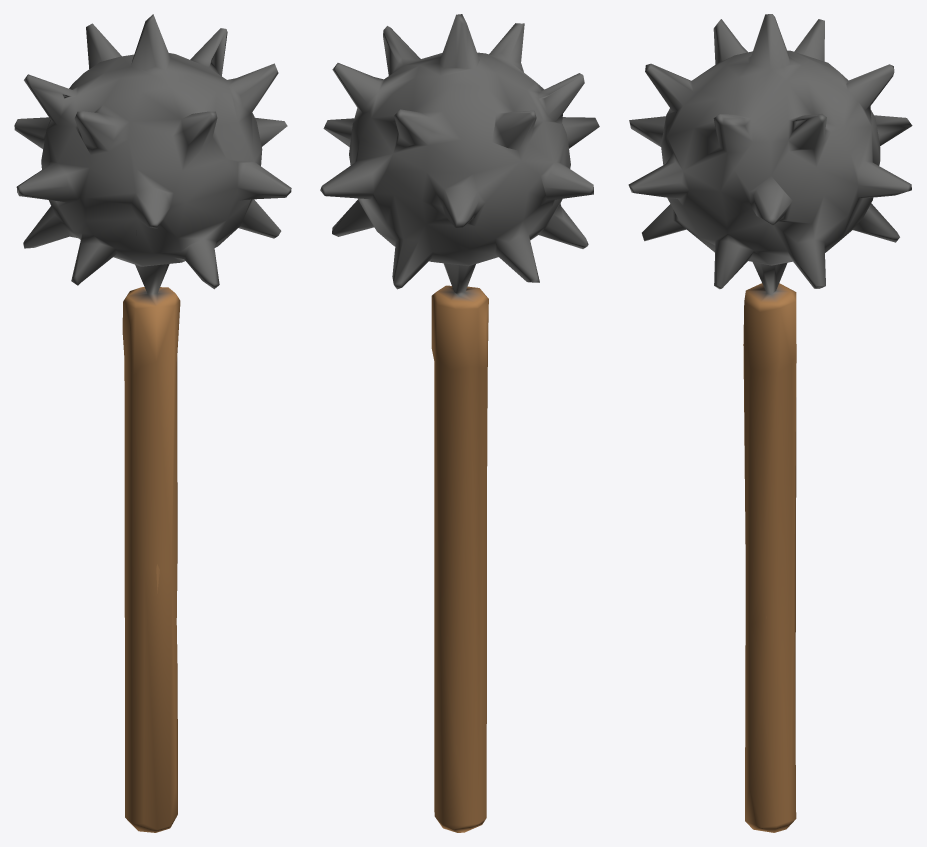
The model's file is gen3d-morning-star-lod1.glb.
3 views of the same model, side by side, from view 1: azimuth 30°, elevation 25°; view 2: azimuth 150°, elevation 25°; view 3: azimuth 270°, elevation 25° (orthographic).
Parts seen in each view (by area): view 1: part_0; view 2: part_0; view 3: part_0.
Boxes of the visible parts, x1,y1,x2,y2 form: part_0: (14, 14, 291, 832); part_0: (320, 14, 599, 832); part_0: (628, 14, 912, 832).
Size of the model in its own units: 0.3466 by 0.9993 by 0.3166.
